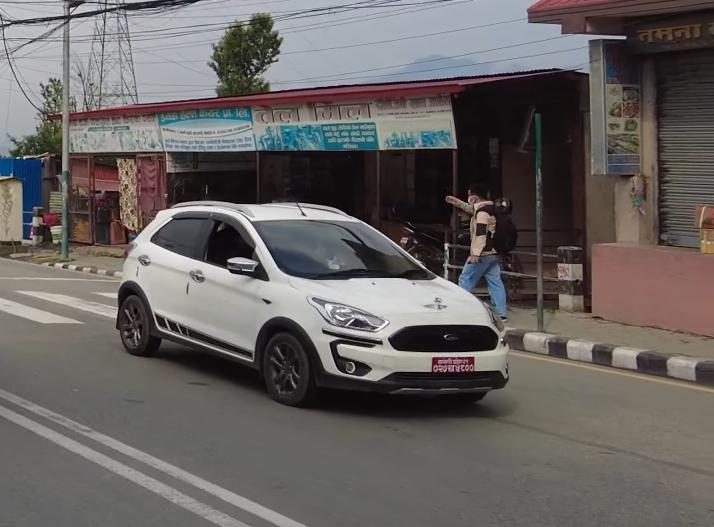car: (127, 189, 511, 409)
